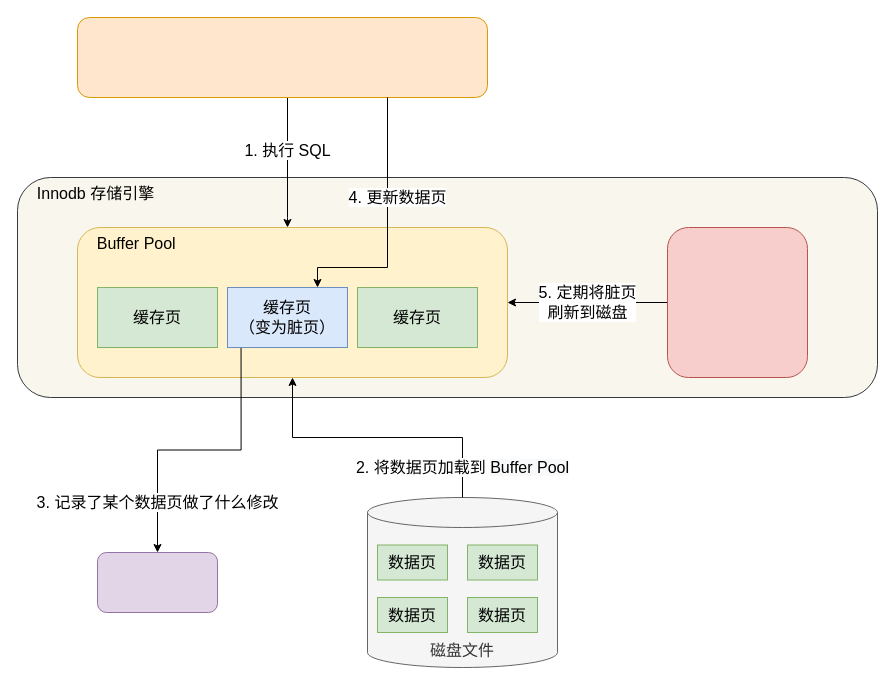
This 895x685 diagram has some shape labels left out. Here are the shapes that lost their labels. From the top down, the centre of each, then its label:
At (282,57): "server 层".
At (737,302): "后台线程".
At (157,582): "redo log 文件".
